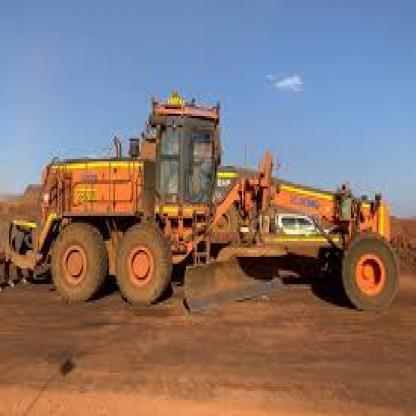bull_dozer/loader/grader: (9, 64, 402, 325)
